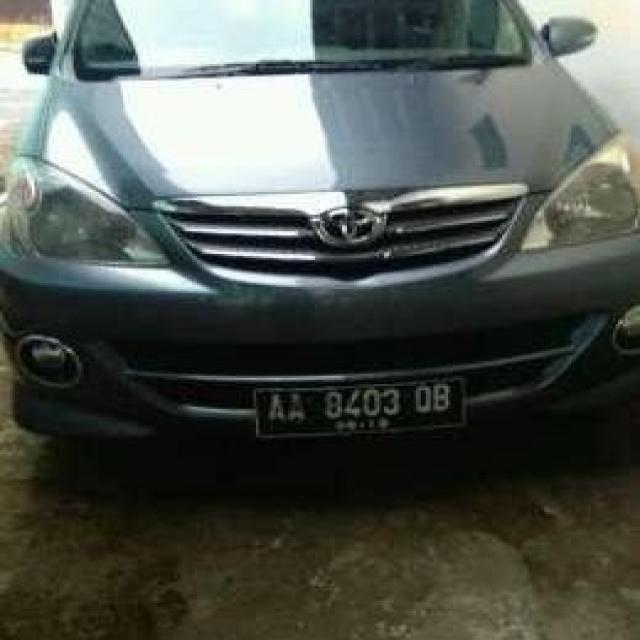plate: (258, 380, 466, 431)
